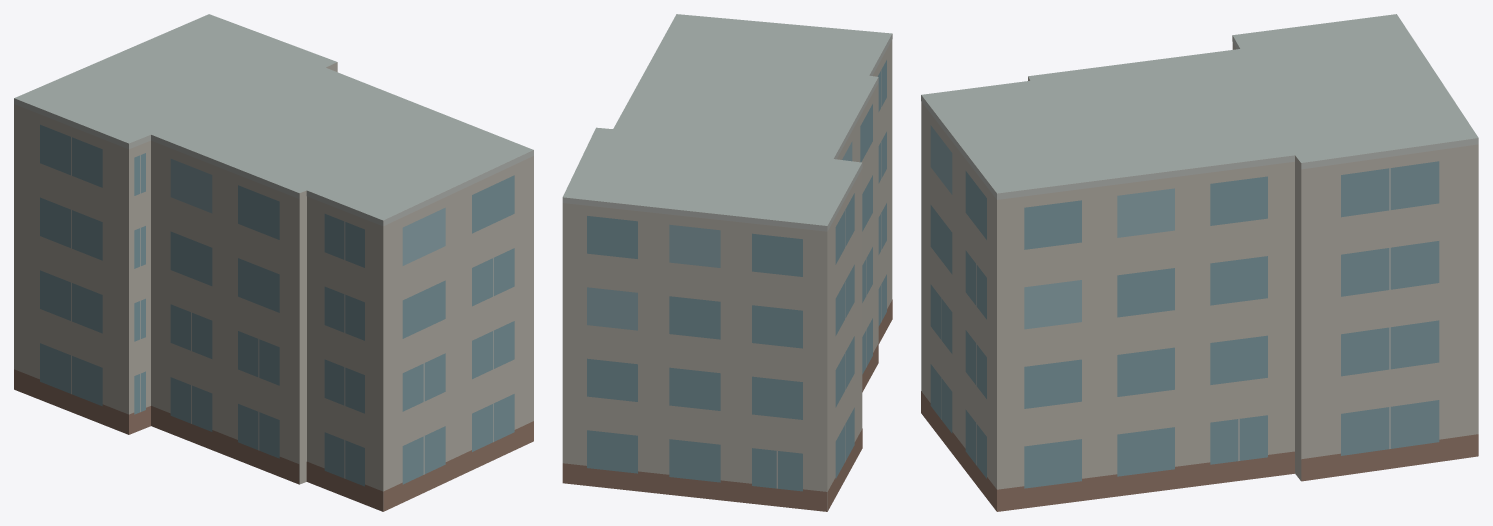
The model's file is survey-upis-32612953.glb.
The picture shows the model from 3 angles, left to right: view 1: azimuth 30°, elevation 25°; view 2: azimuth 150°, elevation 25°; view 3: azimuth 270°, elevation 25°; orthographic projection. The views are drawn at different scales.
Parts seen in each view (by area): view 1: survey-upis-32612953.tmp; view 2: survey-upis-32612953.tmp; view 3: survey-upis-32612953.tmp.
Boxes of the visible parts, x1=… form: survey-upis-32612953.tmp: x1=14, y1=14, x2=533, y2=511; survey-upis-32612953.tmp: x1=562, y1=14, x2=892, y2=511; survey-upis-32612953.tmp: x1=921, y1=14, x2=1478, y2=511.
Size of the model in its own units: 14.77 by 12.2 by 19.38.
